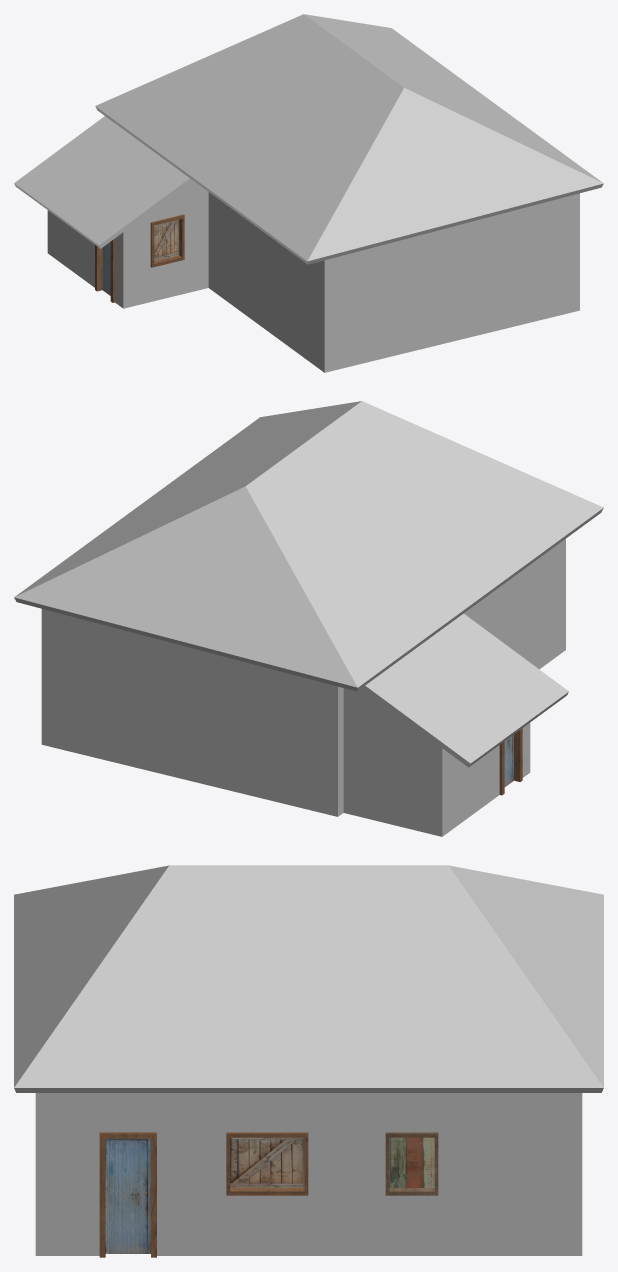
The model's file is 07_casa.fbx.
3 renders of one model, top to bottom at view 1: azimuth 30°, elevation 25°; view 2: azimuth 150°, elevation 25°; view 3: azimuth 270°, elevation 25°, orthographic. The views are drawn at different scales.
Visible parts, largest first — view 1: telhado, 07_casa_LOD0; view 2: telhado, 07_casa_LOD0; view 3: telhado, 07_casa_LOD0.
Boxes of the visible parts, x1,y1,x2,y2 form: telhado: (14, 14, 603, 264); 07_casa_LOD0: (47, 180, 579, 372); telhado: (14, 401, 603, 767); 07_casa_LOD0: (41, 539, 565, 836); telhado: (14, 865, 603, 1092); 07_casa_LOD0: (35, 1093, 582, 1257).
Size of what is drawn, in the model's own units: 906 by 491 by 864.
